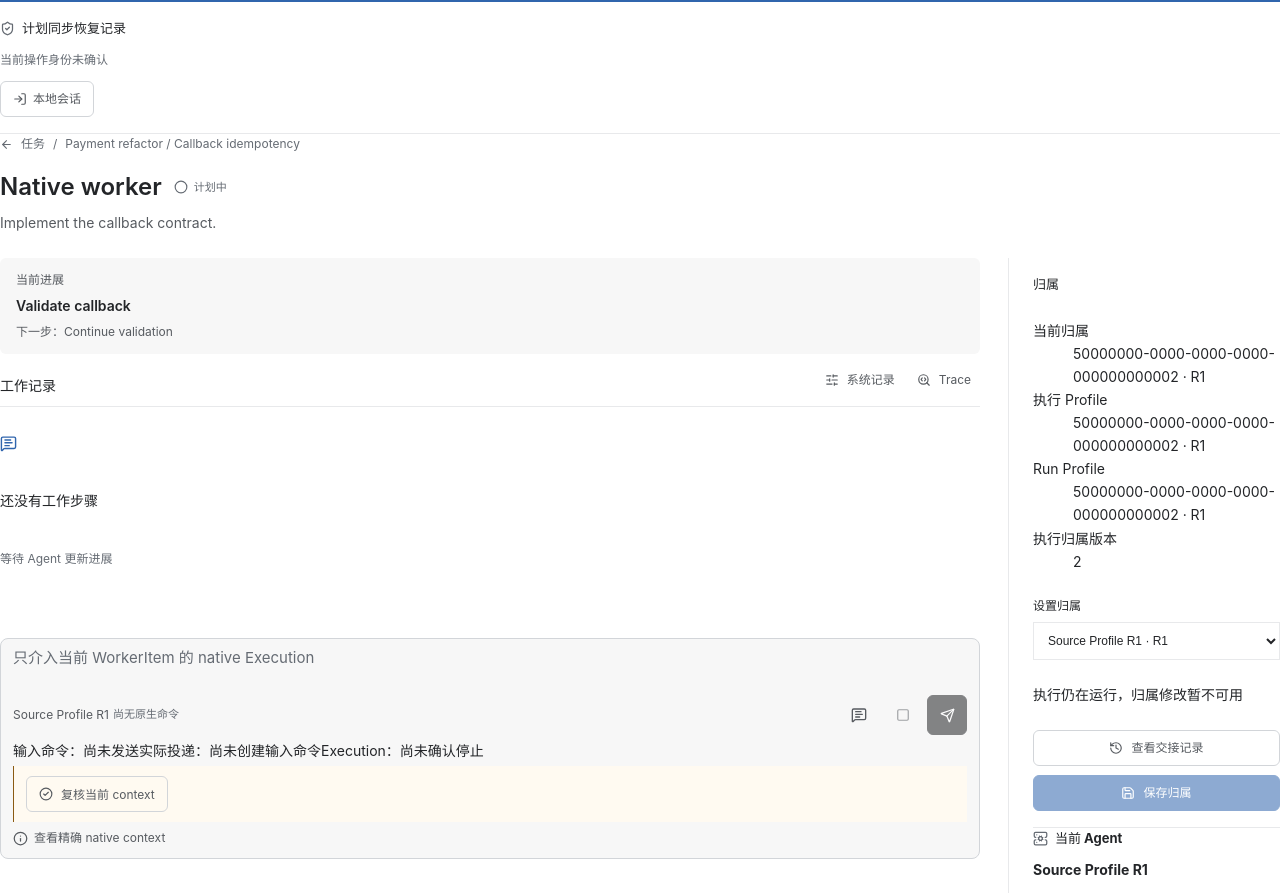
Test case: NativeWorkerHandoff › opens the normal Alt handoff entry through native trace movement (regression=false)
Select "Alt · R3" in the dropdown labelled "设置归属" at (1156, 642), box [1033,622,1279,660]
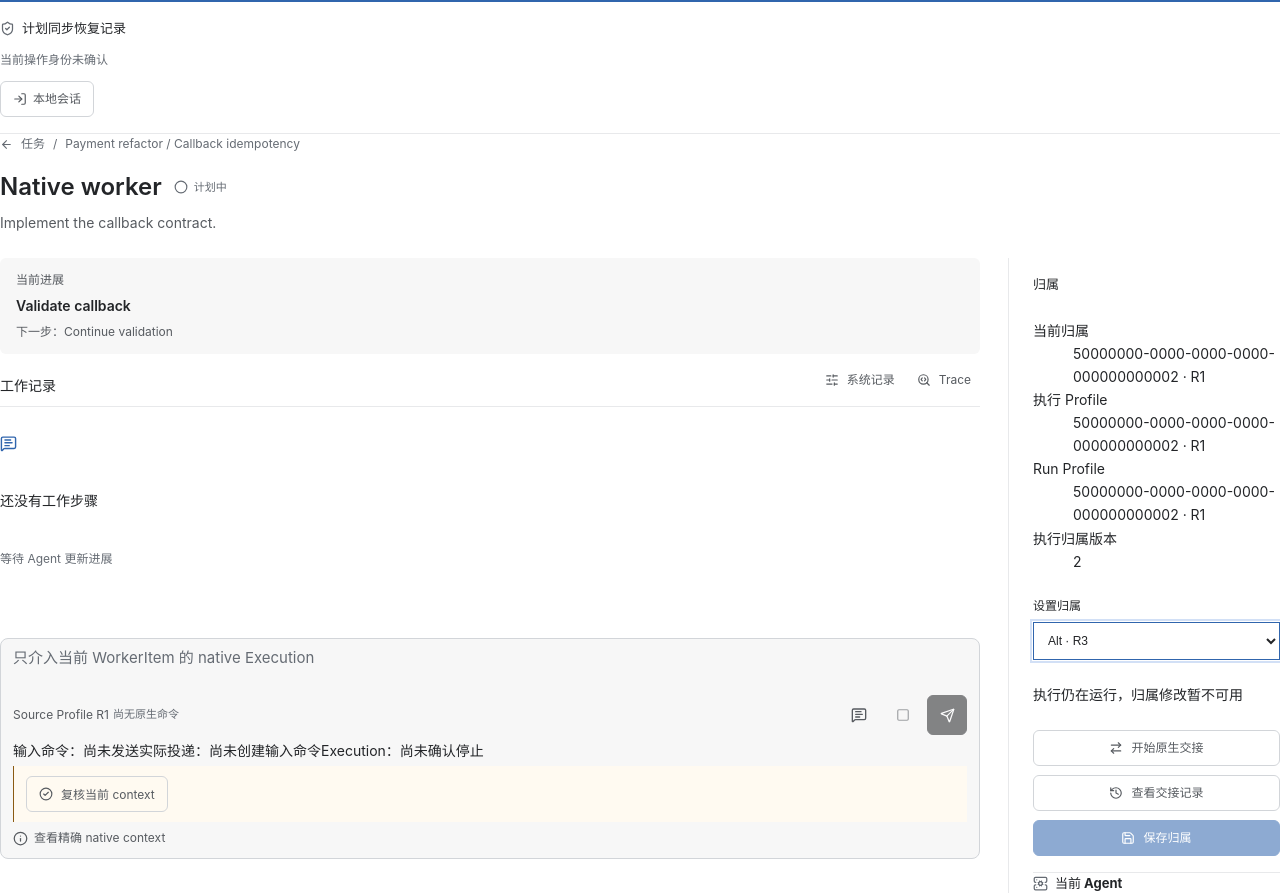
Click the button "开始原生交接" at (1156, 748), box [1033,730,1279,766]
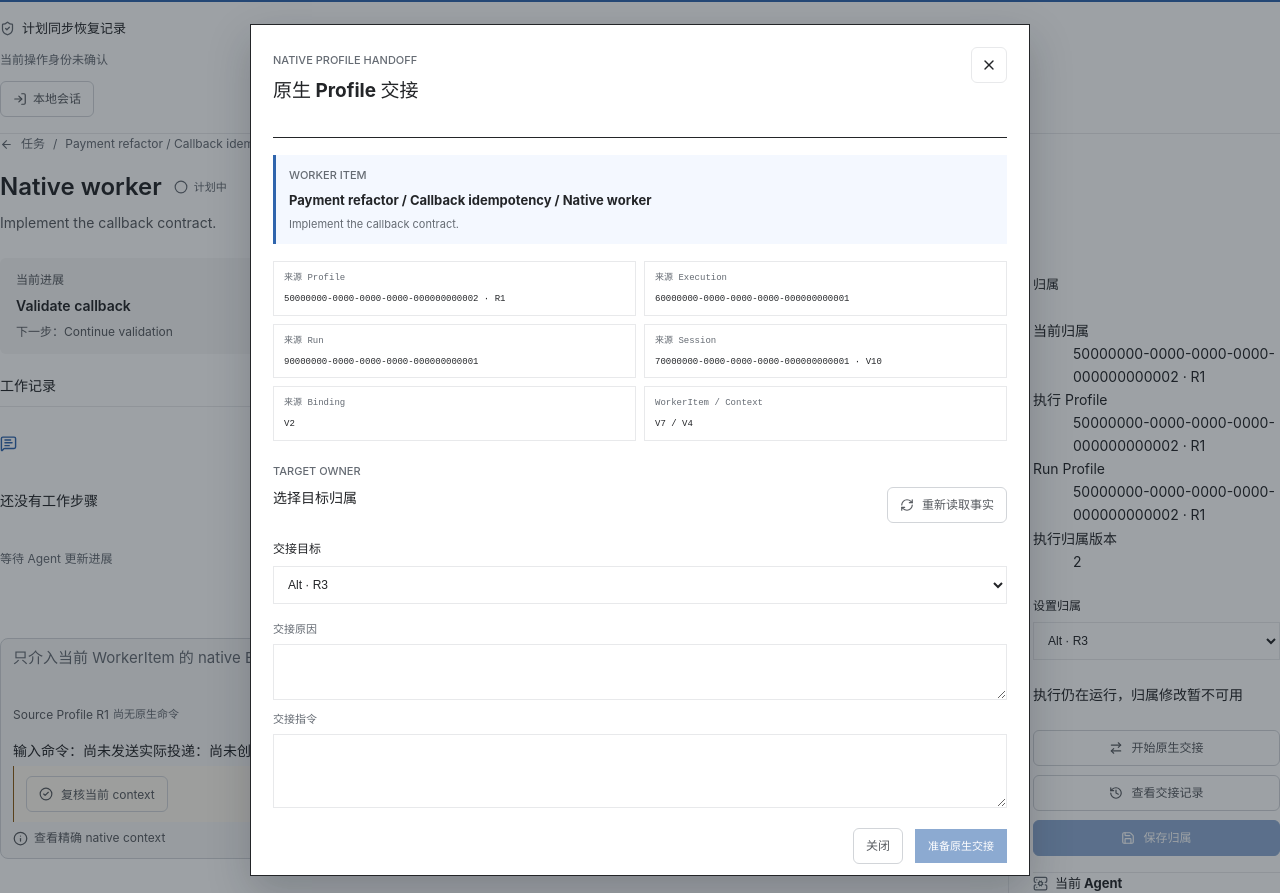
Expected: the heading "原生 Profile 交接" is shown, [273,75,419,106]
Expected: the dropdown labelled "交接目标" shows "Alt · R3", [273,566,1007,604]
